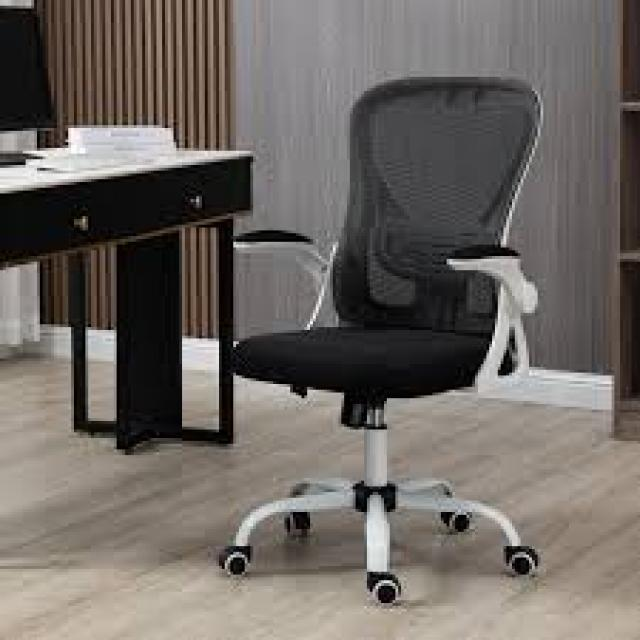chair: (217, 53, 574, 615)
